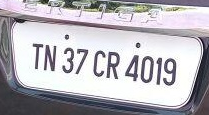0: (140, 55, 155, 84)
1: (154, 56, 163, 85)
3: (61, 47, 75, 73)
4: (125, 54, 139, 81)
7: (75, 47, 89, 75)
9: (163, 57, 177, 87)
C: (93, 50, 106, 78)
N: (43, 44, 58, 72)
R: (105, 51, 120, 79)
T: (32, 43, 44, 70)
